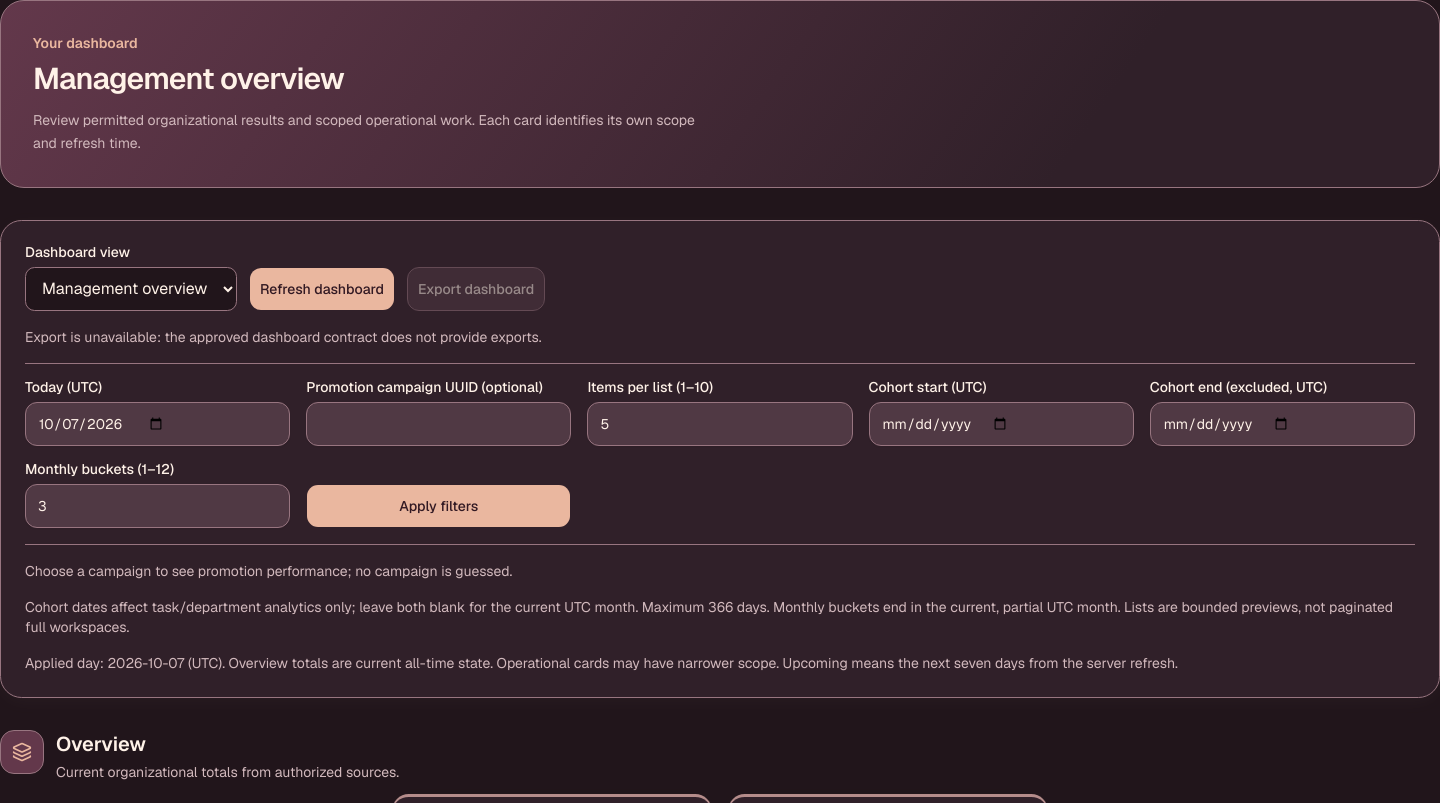
Test: live dashboard integration › does not retain old metrics after a non-transient validation failure
Click the button "Refresh dashboard".
click(322, 288)  # box [249, 266, 395, 310]
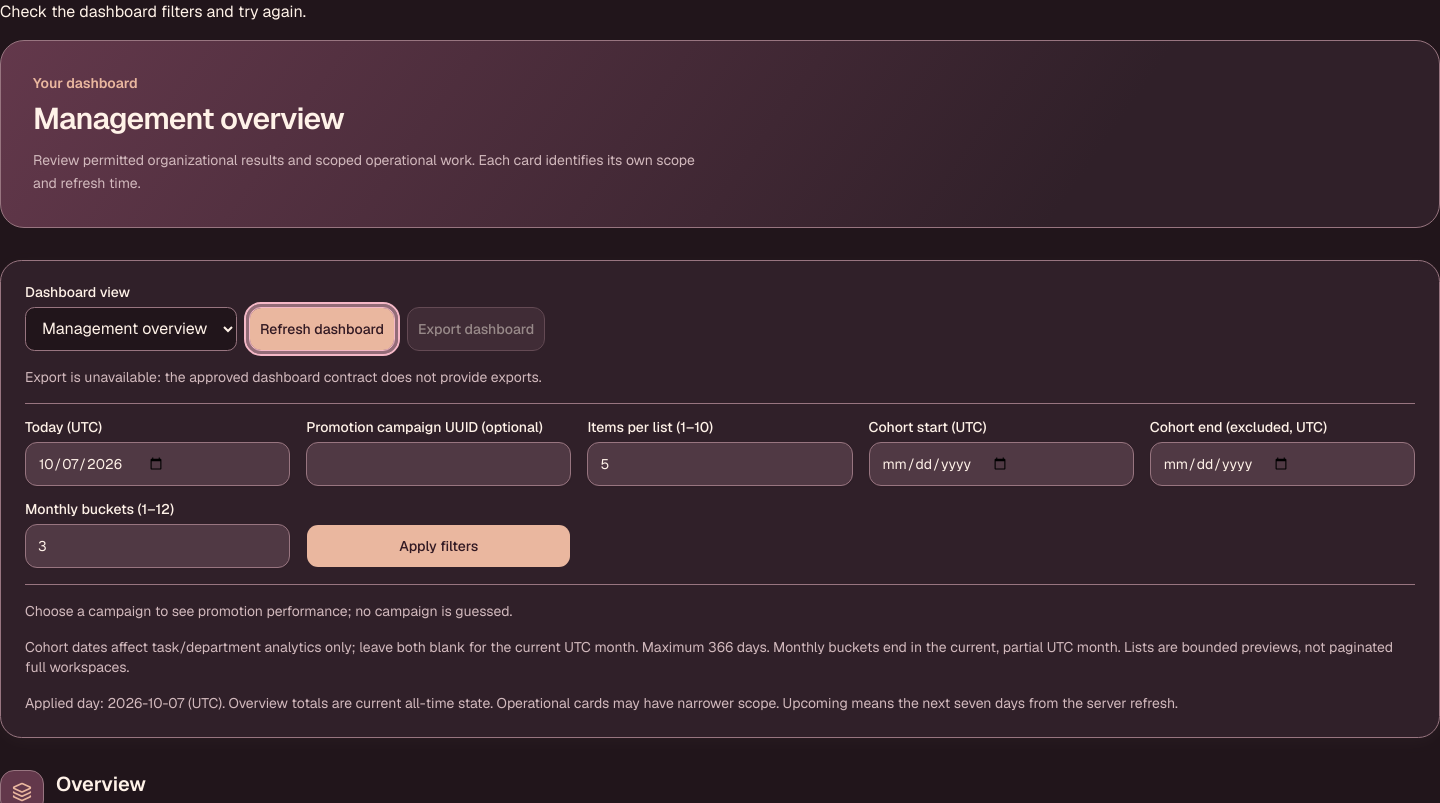
Expected: the message shows "Check the dashboard filters", [0, 1, 306, 22]
